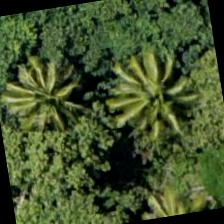Kelapa_Sawit: (104, 36, 207, 138), (0, 45, 96, 149)
